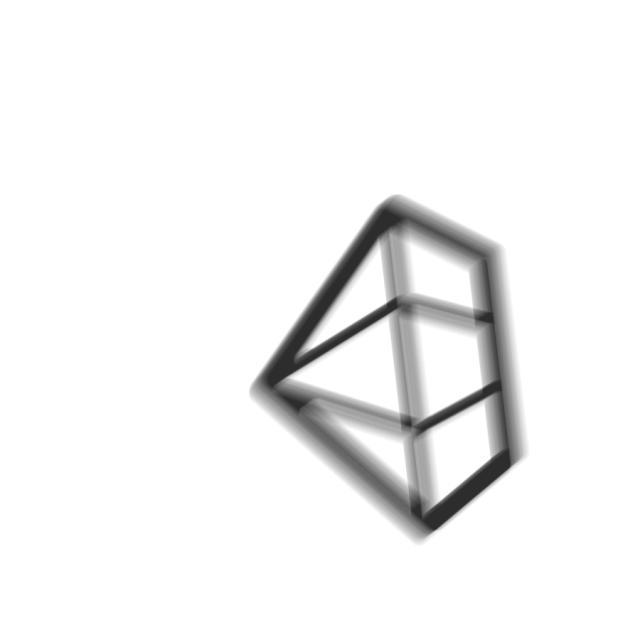diamond: (241, 186, 538, 556)
